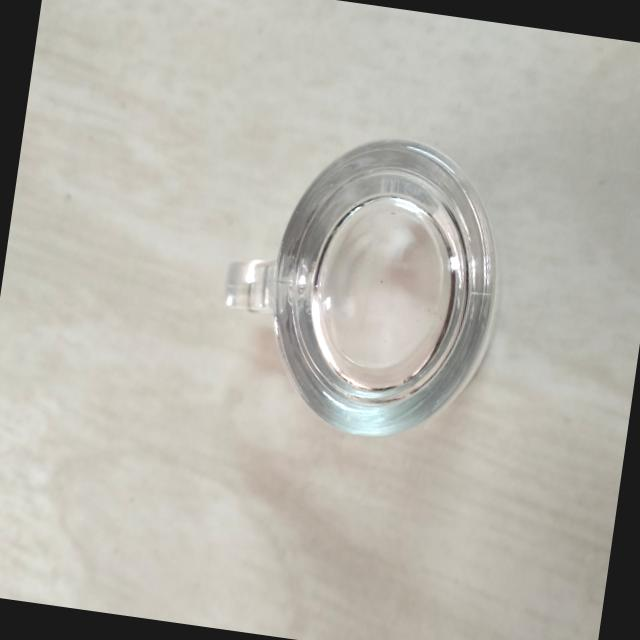glass-VX4N: (205, 114, 520, 453)
